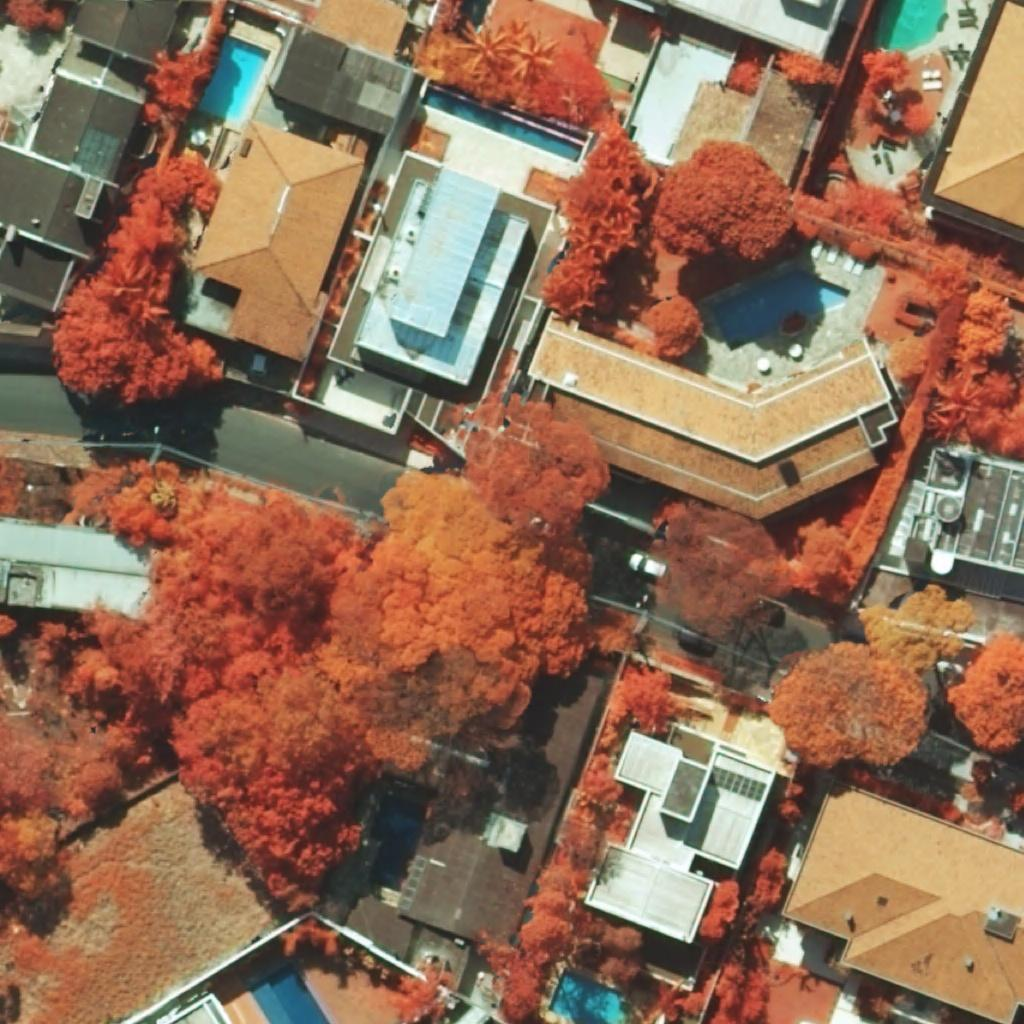pool: (421, 86, 583, 163), (713, 269, 850, 352), (197, 34, 270, 123), (248, 961, 330, 1024), (548, 968, 630, 1024), (876, 0, 948, 52)
